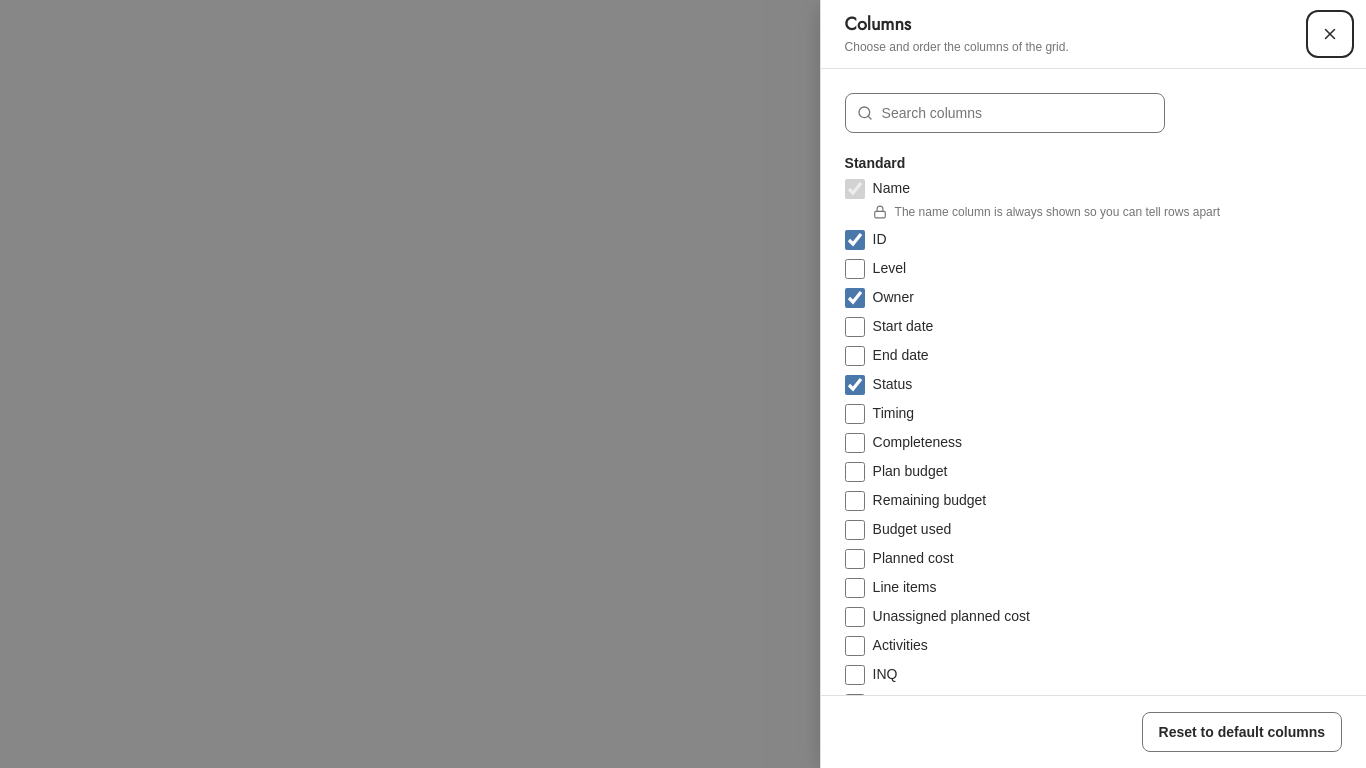
Test: ColumnChooser (US3) › searches the columns of every group
Type "clus" into the search field labelled "Search columns".
click(1005, 113); type("clus")  # box [845,93,1165,133]
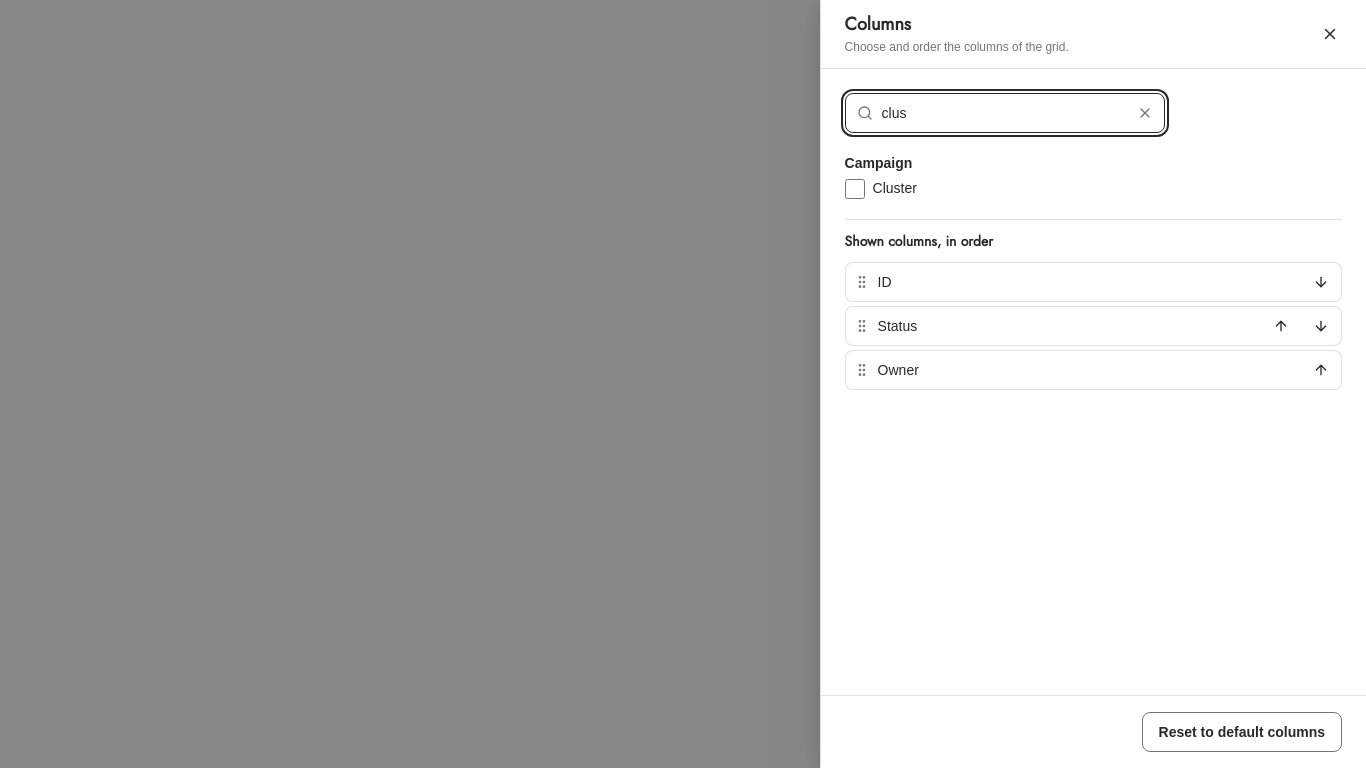
Check: the checkbox labelled "Cluster" is shown, box [845,178,865,198]
